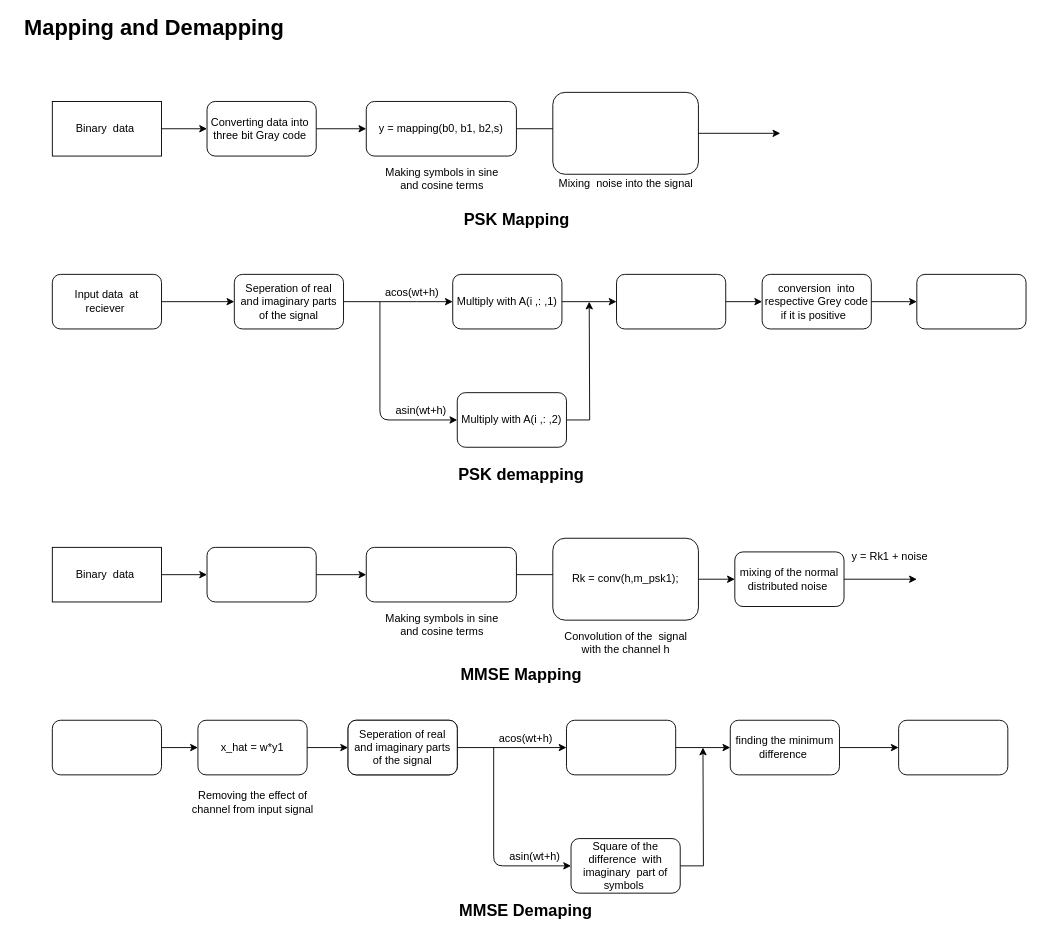
This 1042x937 diagram has some shape labels left out. The shapes that lost their labels are listed below. From the top down, each one's centre as x and y in pixels, then its label:
At point 625,132: "y_comp = sqrt(snr(k)).*symbol_comp +noise_comp".
At point 671,301: "Comparision with all symbols".
At point 971,301: "conversion into binary data".
At point 261,574: "Converting data into three bit desimal code".
At point 440,574: "m_psk = mapping(size, DataSym3)".
At point 106,747: "Input data at reseiver".
At point 621,747: "Square of the difference with real part of symbols".
At point 953,747: "conversion of the symbol with min difference into decimal number".
